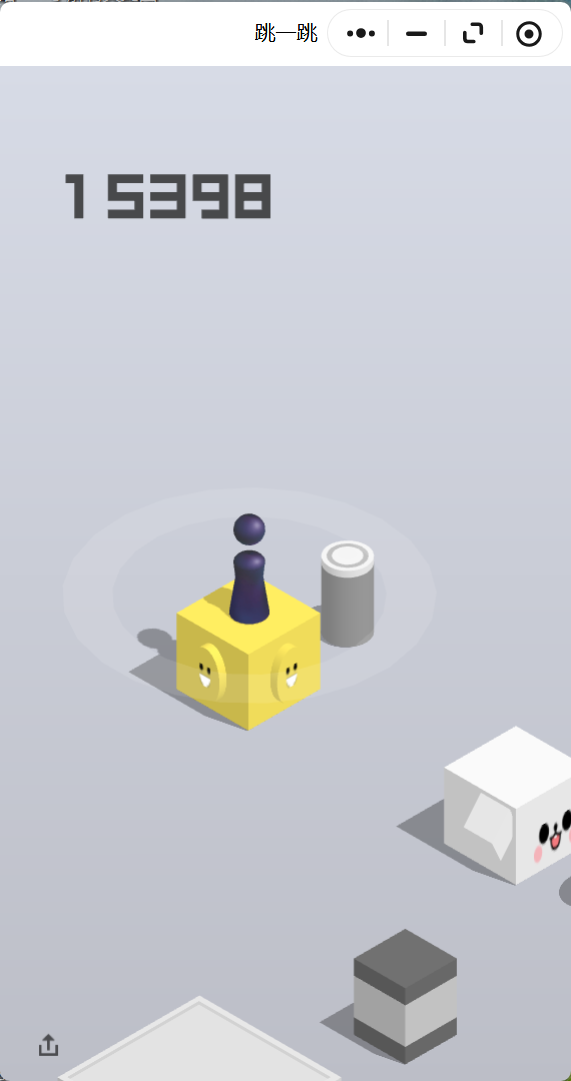piece: (233, 513, 264, 618)
target: (321, 541, 374, 570)
